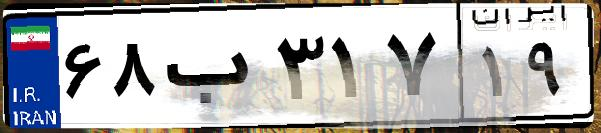1: (330, 28, 385, 110), (475, 38, 525, 113)
3: (270, 28, 330, 110)
6: (57, 26, 110, 100)
7: (385, 28, 445, 110)
8: (110, 28, 158, 98)
9: (525, 38, 570, 115)
ب: (158, 20, 270, 120)
